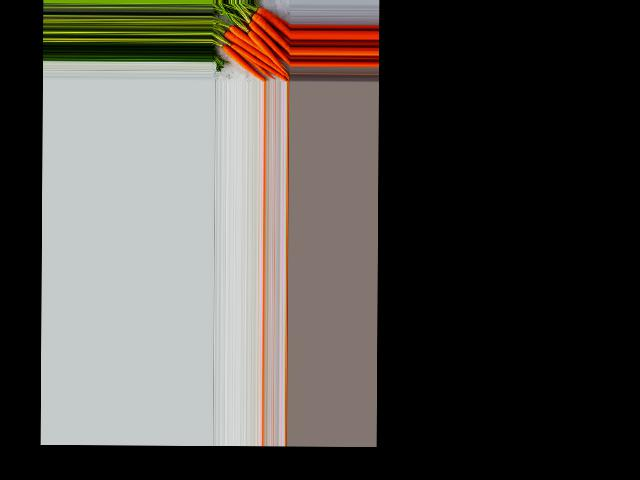carrot: (256, 7, 291, 33)
